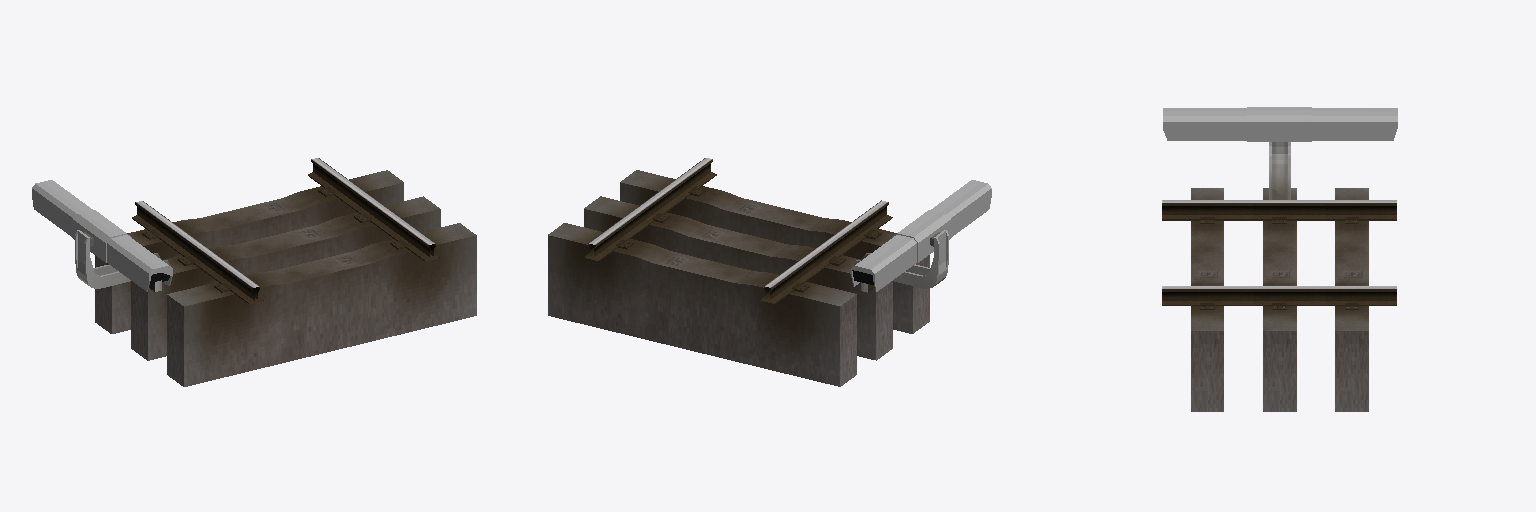
The picture shows the model from 3 angles: view 1: azimuth 30°, elevation 25°; view 2: azimuth 150°, elevation 25°; view 3: azimuth 270°, elevation 25°; orthographic projection.
Parts seen in each view (by area): view 1: br_sb.006, br_sb.002; view 2: br_sb.006, br_sb.002; view 3: br_sb.006, br_sb.002.
Boxes of the visible parts, x1=… form: br_sb.006: x1=95, y1=158, x2=476, y2=386; br_sb.002: x1=32, y1=180, x2=172, y2=291; br_sb.006: x1=548, y1=158, x2=929, y2=386; br_sb.002: x1=851, y1=180, x2=991, y2=292; br_sb.006: x1=1162, y1=188, x2=1396, y2=411; br_sb.002: x1=1163, y1=107, x2=1397, y2=199.
Bounding box in the file's own units: 3.06 × 1.16 × 1.77.
Materials: 2 (1 with a texture image).